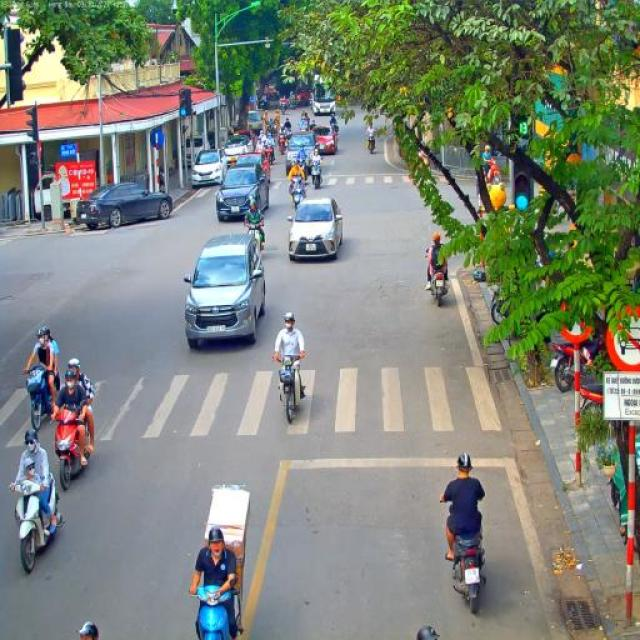bus: (506, 62, 640, 199), (310, 72, 338, 118)
car: (182, 232, 268, 352), (76, 182, 174, 229), (286, 198, 344, 262), (216, 163, 270, 223), (191, 148, 229, 188), (286, 134, 318, 172), (233, 152, 272, 183), (224, 132, 256, 168), (312, 123, 338, 156)
motorcycle: (10, 472, 66, 574), (50, 406, 90, 492), (450, 526, 488, 616), (548, 330, 602, 391), (188, 582, 238, 640), (24, 365, 54, 433), (274, 352, 302, 423), (425, 249, 450, 306), (578, 382, 616, 416), (490, 280, 509, 326), (246, 220, 265, 258), (482, 155, 502, 185), (290, 184, 306, 212), (294, 155, 308, 181), (278, 128, 292, 154), (311, 161, 323, 190), (254, 146, 267, 166), (366, 132, 376, 154), (329, 122, 339, 136), (298, 122, 310, 133), (268, 120, 276, 136), (259, 134, 266, 148), (279, 102, 287, 114), (287, 97, 295, 109)
truck: (246, 110, 264, 134), (233, 130, 251, 146)
